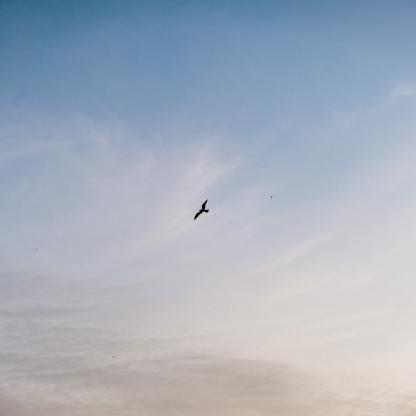bird: (194, 199, 209, 221), (271, 196, 273, 198)
